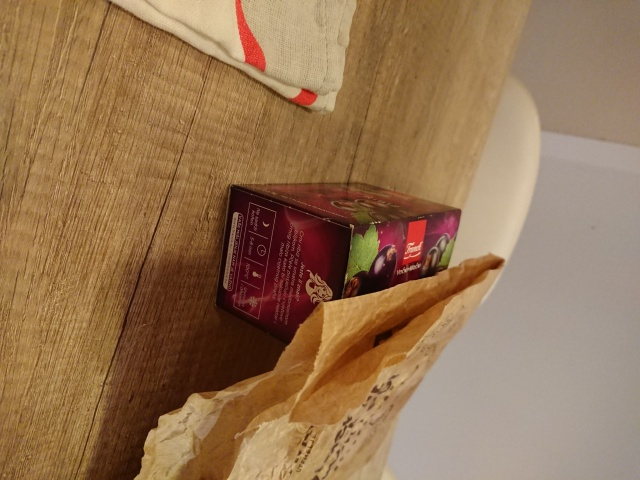Franck Black Currant Tea 60g: (210, 178, 465, 359)
